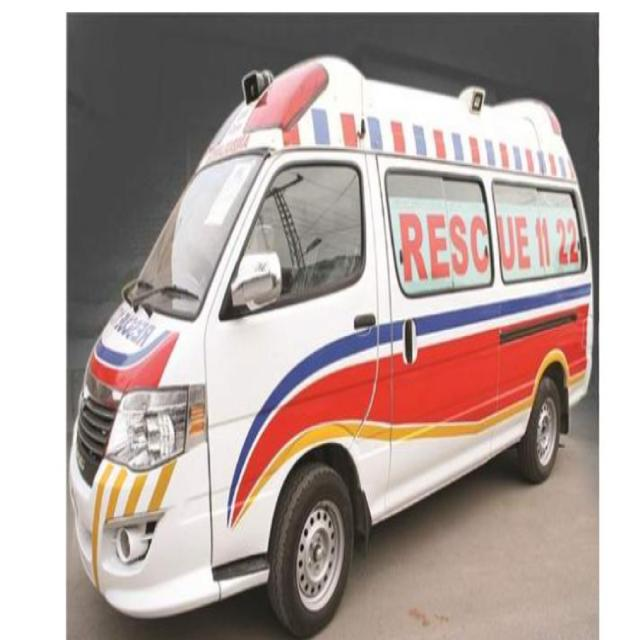ambulance: (83, 89, 591, 567)
